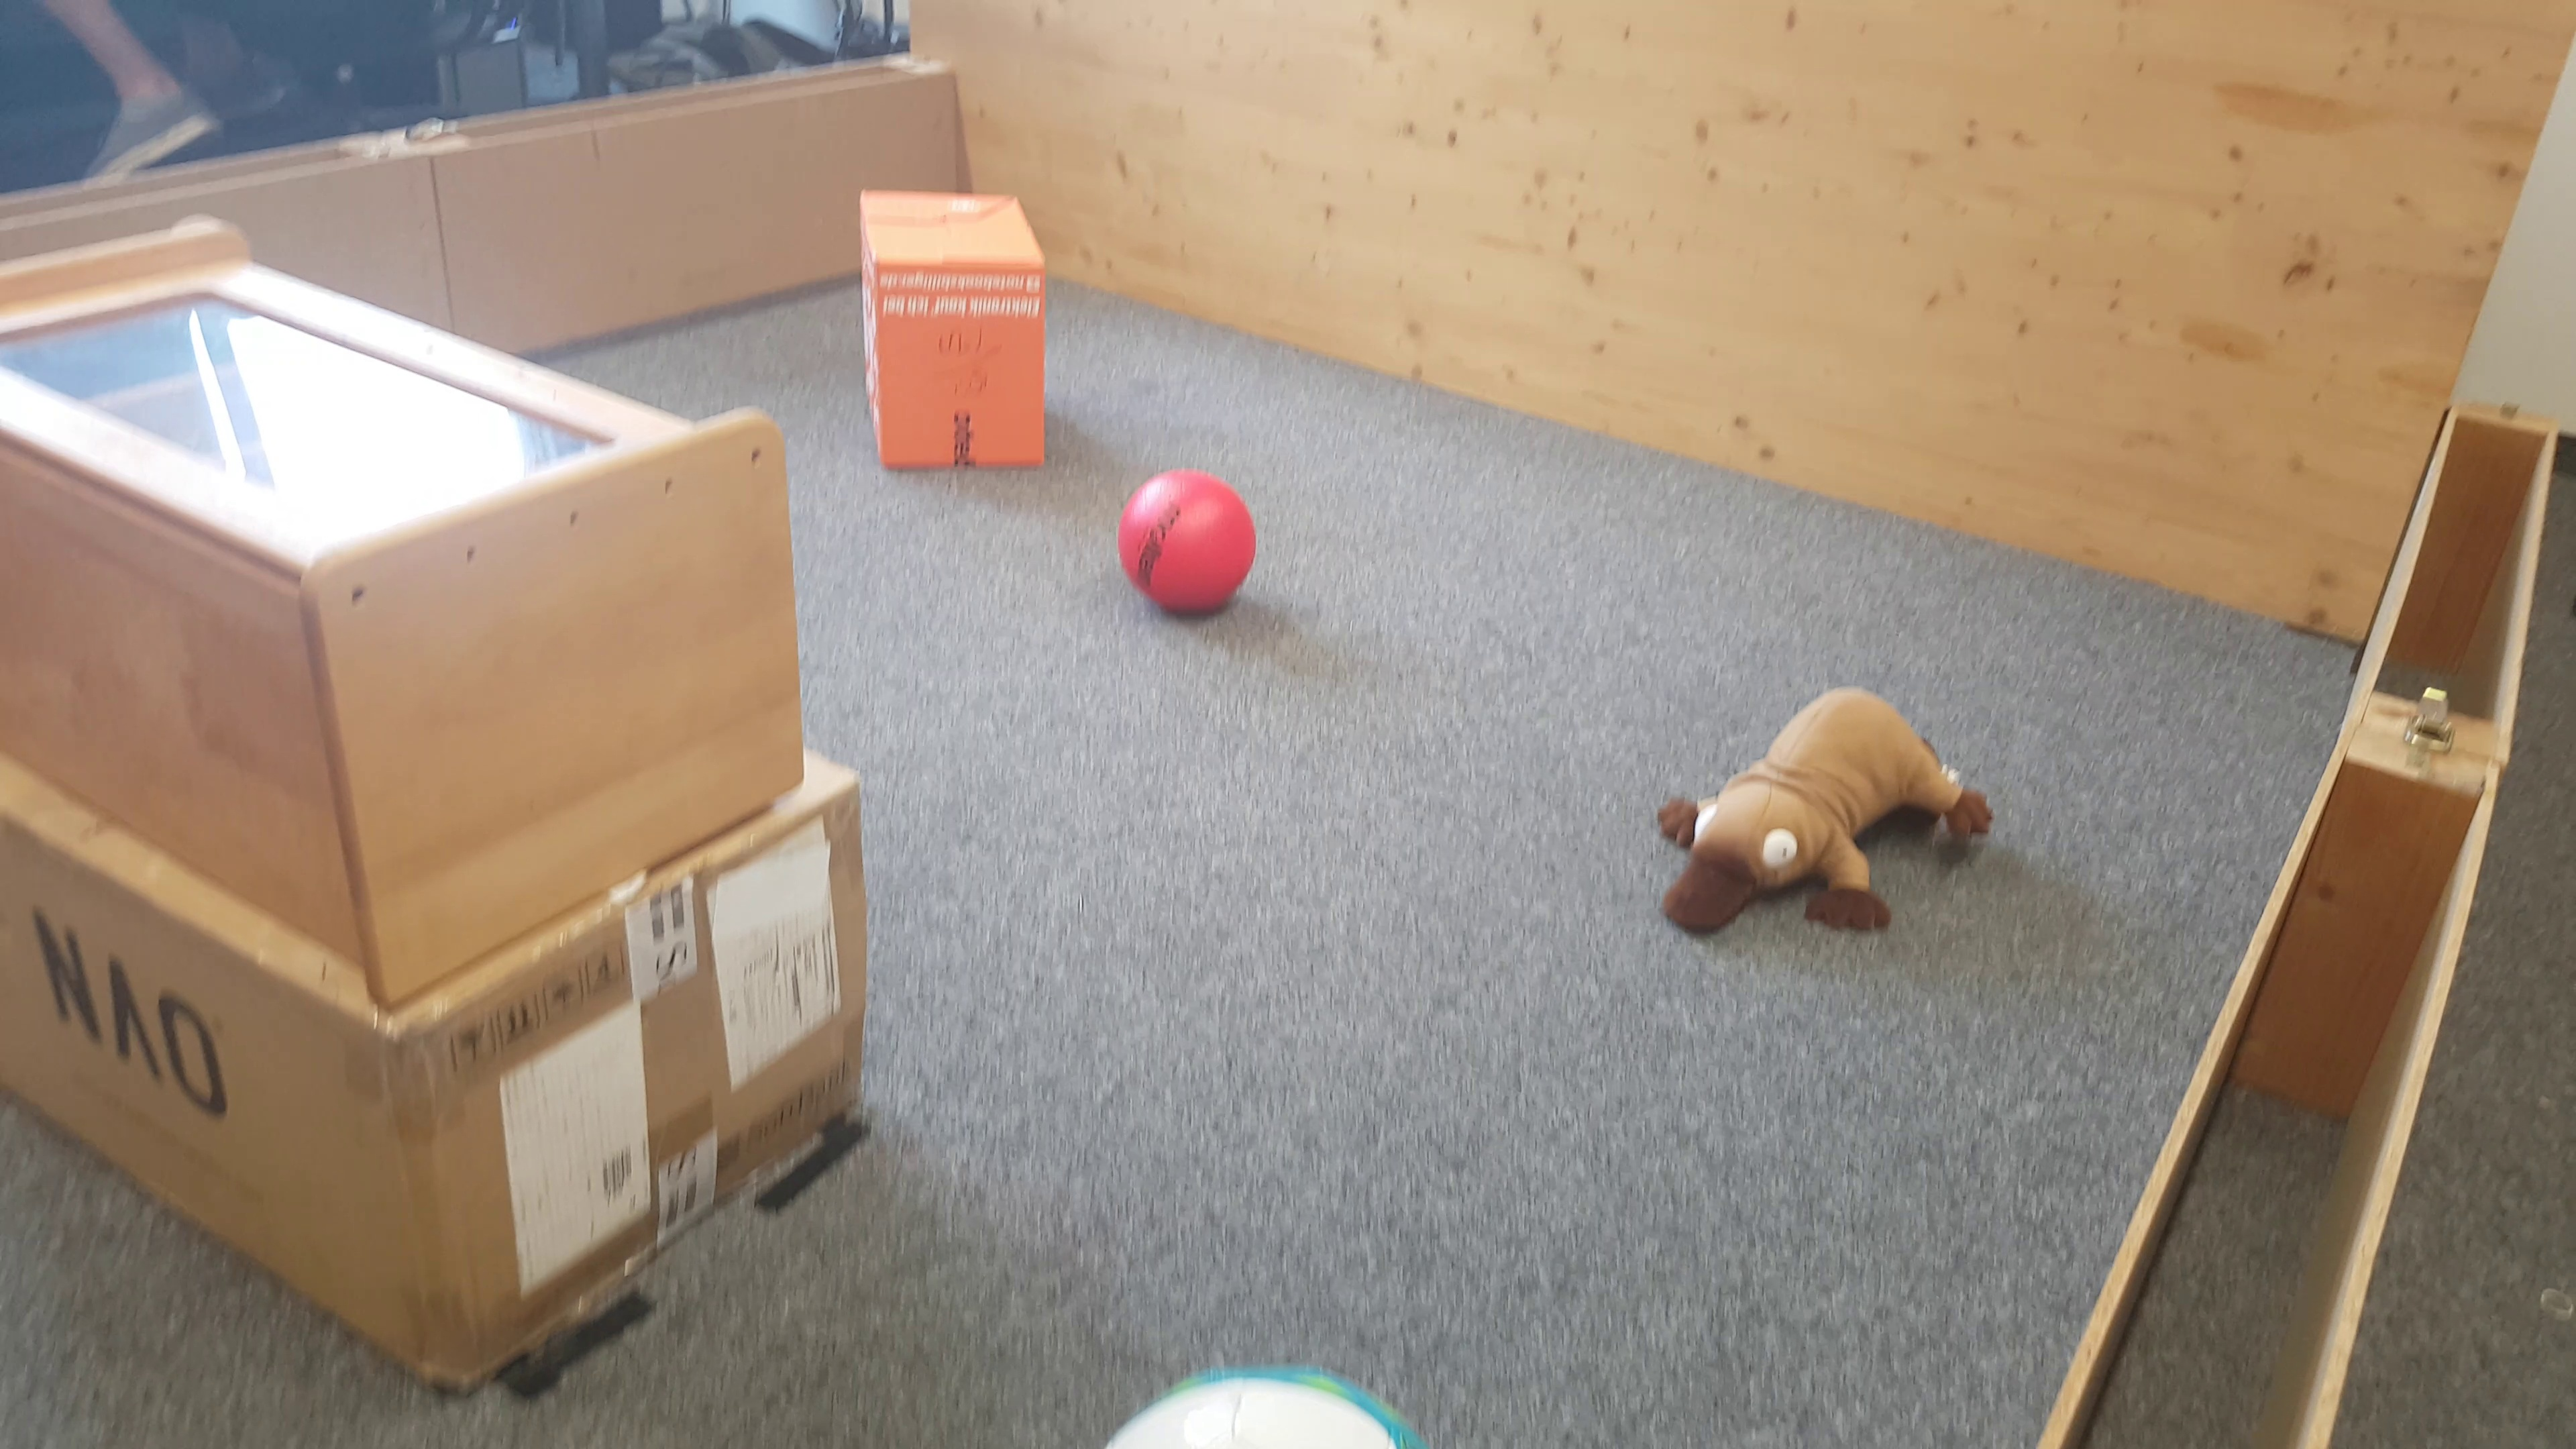grasp: (1652, 685, 1992, 945)
kick: (1099, 1371, 1410, 1449), (1127, 462, 1256, 625)
push: (858, 188, 1054, 483)
